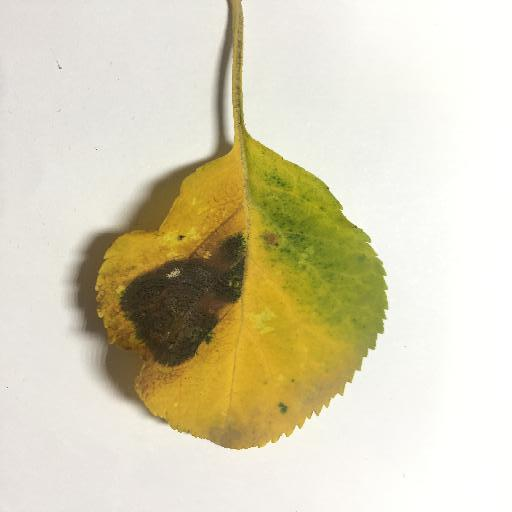Brown_Spot: (117, 203, 243, 357)
